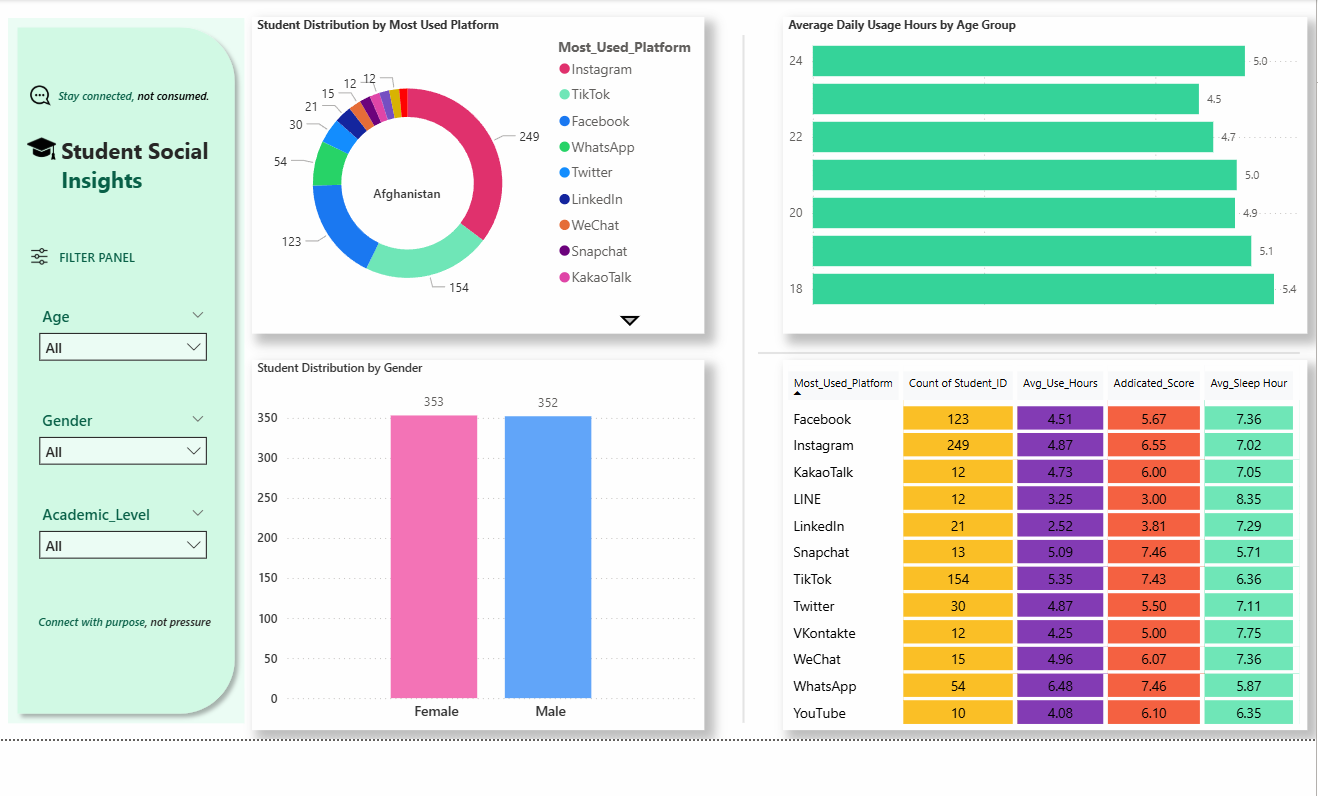

Layout of this report page (visuals, bound fields, positions):
{"tool":"powerbi","page":{"name":"Usage Overview","canvas":[1280,720],"ordinal":1},"visuals":[{"type":"donutChart","title":"Student Distribution by Most Used Platform","fields":{"Category":["social_media_addication ssma.Most_Used_Platform"],"Y":["social_media_addication ssma.Total_Student_count"]},"box":[245.1,17.5,439.6,308.3],"z":0},{"type":"clusteredBarChart","title":"Average Daily Usage Hours by Age Group","fields":{"Category":["social_media_addication ssma.Age"],"Y":["social_media_addication ssma.Total _avg_use_Hours"]},"box":[761.6,17.5,509.7,308.3],"z":1000},{"type":"clusteredColumnChart","title":"Student Distribution by Gender","fields":{"Y":["social_media_addication ssma.Total_Student_count"],"Category":["social_media_addication ssma.Gender"]},"box":[245.1,351.1,439.6,359.9],"z":2000},{"type":"pivotTable","fields":{"Values":["CountNonNull(social_media_addication ssma.Student_ID)","social_media_addication ssma.Total _avg_use_Hours","social_media_addication ssma.Toatal_addicated_score","social_media_addication ssma.Total _avg_sleep hour"],"Rows":["social_media_addication ssma.Most_Used_Platform"]},"box":[761.6,351.1,509.7,359.9],"z":3000},{"type":"shape","box":[7.8,18.5,229.5,685.7],"z":4000},{"type":"image","box":[25.3,236.4,26.3,28.2],"z":5000},{"type":"slicer","fields":{"Values":["social_media_addication ssma.Age"]},"box":[28.2,292.8,182.9,65.2],"z":6000},{"type":"slicer","fields":{"Values":["social_media_addication ssma.Gender"]},"box":[28.2,393.9,182.9,68.1],"z":7000},{"type":"slicer","fields":{"Values":["social_media_addication ssma.Academic_Level"]},"box":[28.2,485.3,182.9,68.1],"z":8000},{"type":"card","fields":{"Values":["Min(social_media_addication ssma.Country)"]},"box":[345.3,159.5,101.2,64.2],"z":9000},{"type":"shape","box":[715.9,35,14.6,669.2],"z":10000},{"type":"shape","box":[737.3,337.5,527.2,13.6],"z":11000},{"type":"textbox","box":[52.5,236.4,104.1,29.2],"z":12000},{"type":"textbox","box":[54.5,127.4,169.2,82.7],"z":13000},{"type":"textbox","box":[51.6,78.8,172.2,42.8],"z":14000},{"type":"image","box":[24.3,77.8,30.2,31.1],"z":15000},{"type":"image","box":[19.5,121.6,41.8,47.7],"z":16000},{"type":"textbox","box":[21.4,590.4,202.3,49.6],"z":17000}]}

Visuals, with their boxes on the page's 1280x720 design canvas (x1, y1, x2, y2). These are canvas units, not pixel positions in the 1318x796 screenshot, which may show the page scaled, cropped or inside an application window:
"Student Distribution by Most Used Platform" donutChart: crop(245, 18, 685, 326)
"Average Daily Usage Hours by Age Group" clusteredBarChart: crop(762, 18, 1271, 326)
"Student Distribution by Gender" clusteredColumnChart: crop(245, 351, 685, 711)
pivotTable - CountNonNull(social_media_addication ssma.Student_ID) x social_media_addication ssma.Total _avg_use_Hours: crop(762, 351, 1271, 711)
shape: crop(8, 18, 237, 704)
image: crop(25, 236, 52, 265)
slicer - social_media_addication ssma.Age: crop(28, 293, 211, 358)
slicer - social_media_addication ssma.Gender: crop(28, 394, 211, 462)
slicer - social_media_addication ssma.Academic_Level: crop(28, 485, 211, 553)
card - Min(social_media_addication ssma.Country): crop(345, 160, 446, 224)
shape: crop(716, 35, 730, 704)
shape: crop(737, 338, 1264, 351)
textbox: crop(52, 236, 157, 266)
textbox: crop(54, 127, 224, 210)
textbox: crop(52, 79, 224, 122)
image: crop(24, 78, 54, 109)
image: crop(20, 122, 61, 169)
textbox: crop(21, 590, 224, 640)
